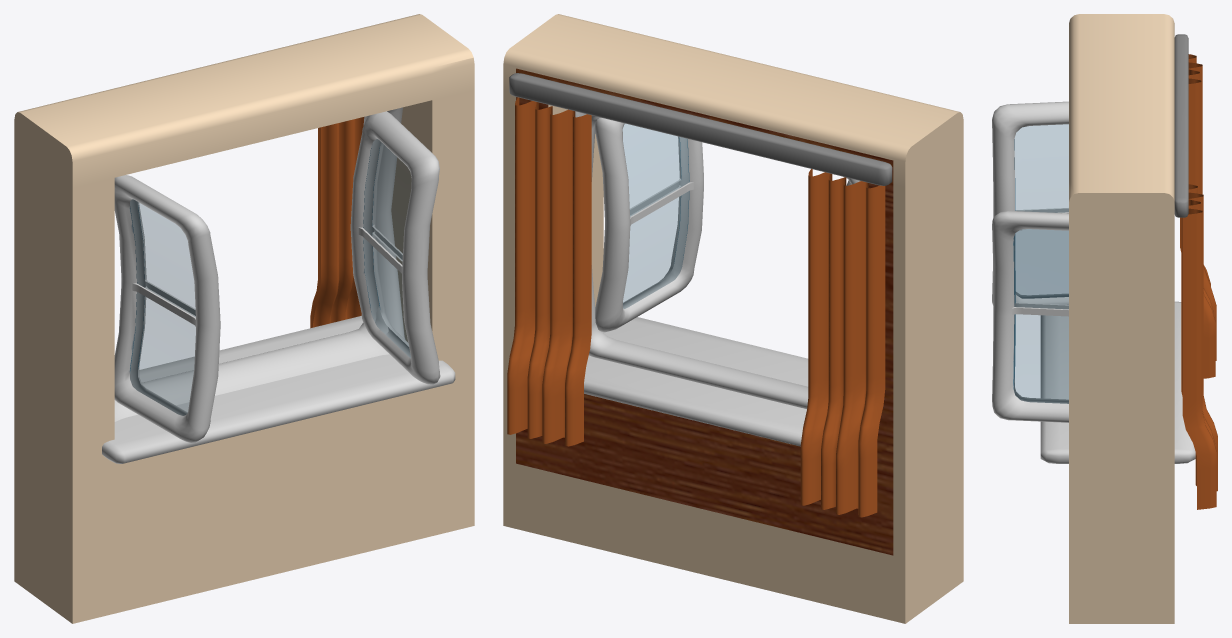
Rendered from Window_Wall_L_Open.glb.
3 renders of one model, left to right at view 1: azimuth 30°, elevation 25°; view 2: azimuth 150°, elevation 25°; view 3: azimuth 270°, elevation 25°, orthographic. The views are drawn at different scales.
Parts seen in each view (by area): view 1: Cube.020, Torus.008, Torus.009, Cube.012, Torus.007, Grid.004; view 2: Cube.020, Cube.011, Grid.005, Grid.004, Torus.009, Cube.012, Cube.010, Torus.007; view 3: Cube.020, Torus.009, Torus.008, Grid.004, Cube.012, Grid.005, Cube.010.
Part boxes in pixels (left/top/right/bottom): Cube.020: left=14, top=14, right=474, bottom=623; Torus.008: left=114, top=175, right=220, bottom=442; Torus.009: left=350, top=111, right=440, bottom=384; Cube.012: left=102, top=316, right=455, bottom=463; Torus.007: left=114, top=107, right=405, bottom=421; Grid.004: left=310, top=117, right=364, bottom=328; Cube.020: left=503, top=14, right=963, bottom=623; Cube.011: left=516, top=68, right=893, bottom=555; Grid.005: left=800, top=169, right=885, bottom=517; Grid.004: left=507, top=97, right=591, bottom=446; Torus.009: left=595, top=118, right=703, bottom=332; Cube.012: left=584, top=317, right=808, bottom=446; Cube.010: left=509, top=73, right=892, bottom=185; Torus.007: left=575, top=111, right=860, bottom=408; Cube.020: left=1069, top=14, right=1174, bottom=623; Torus.009: left=992, top=211, right=1068, bottom=422; Torus.008: left=992, top=101, right=1068, bottom=305; Grid.004: left=1181, top=184, right=1217, bottom=509; Cube.012: left=1040, top=301, right=1195, bottom=463; Grid.005: left=1180, top=54, right=1216, bottom=378; Cube.010: left=1174, top=34, right=1188, bottom=217.
Size of the model in its own units: 2 by 2.25 by 1.07.
4 materials, 4 textured.
